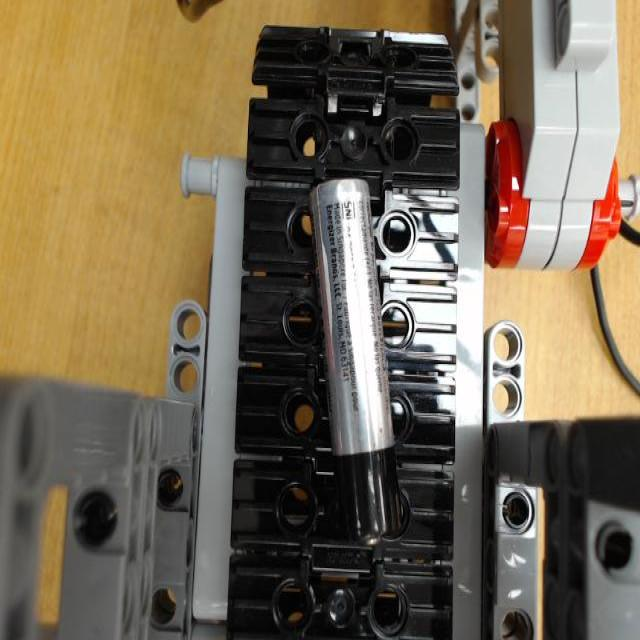AAA: (306, 172, 401, 548)
